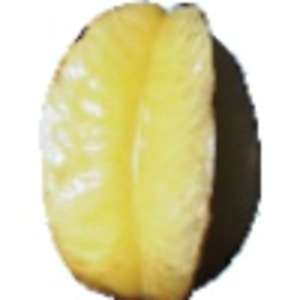carambola: (40, 1, 261, 300)
